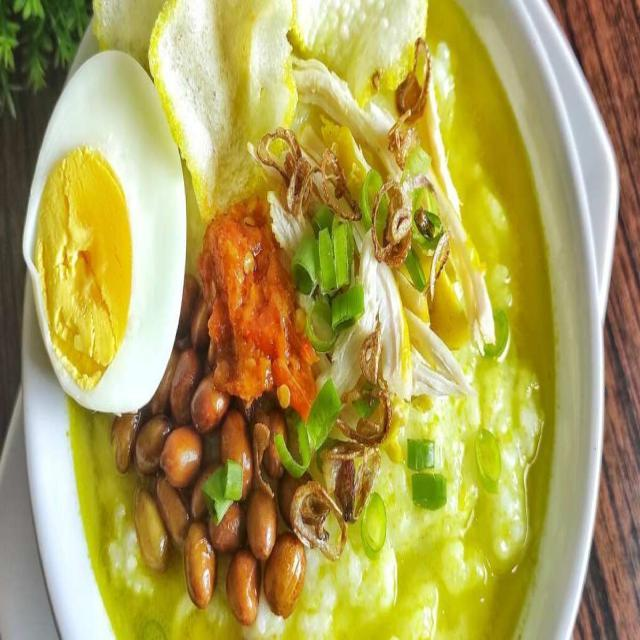bubur ayam: (72, 0, 554, 639)
mangkuk: (24, 47, 187, 418)
sambal: (198, 195, 318, 422)
telur rebus: (4, 0, 613, 629)
